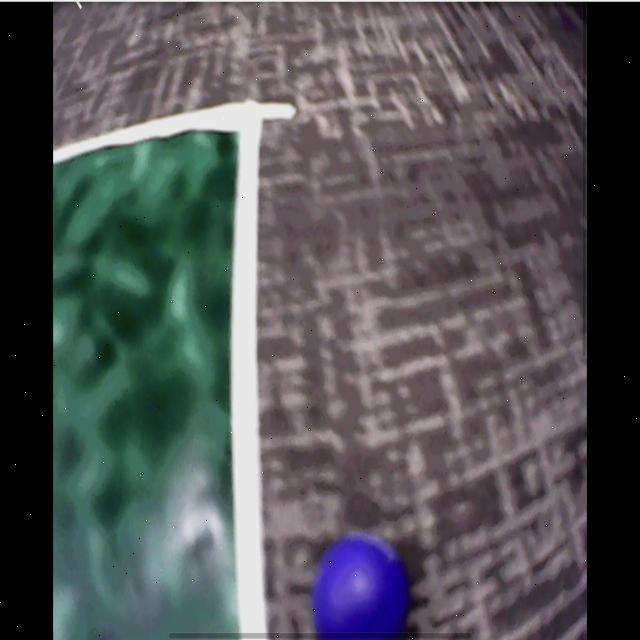ball: (312, 536, 409, 640)
